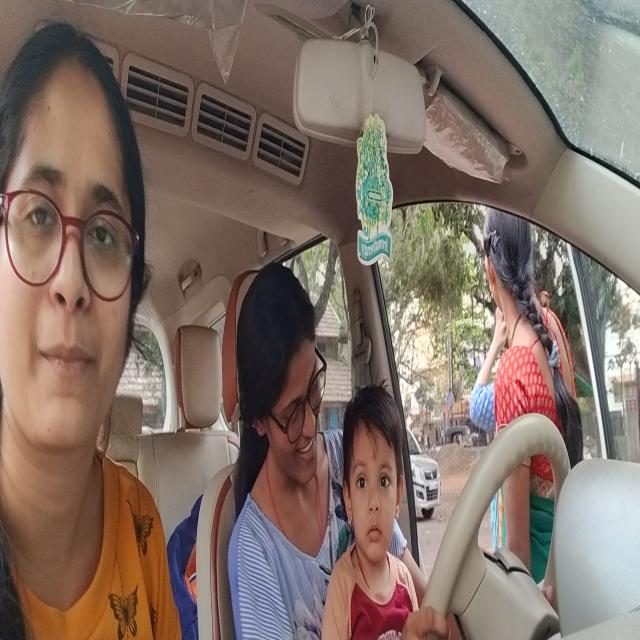child: (336, 385, 407, 564)
person: (0, 13, 156, 482), (230, 256, 330, 498)
